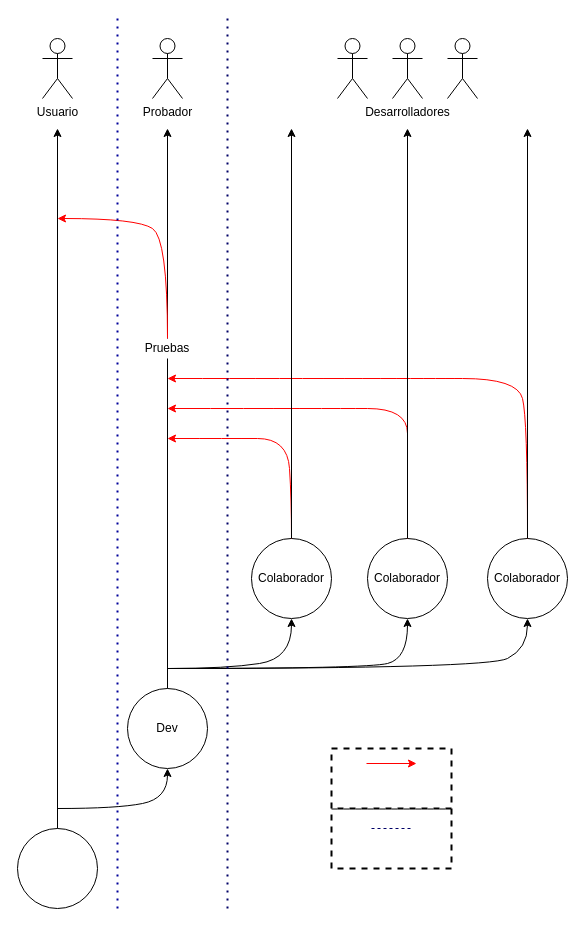
Image size: 585x927. Some labels were removed from this diagram. Here are the shapes that lost their labels. From the top down, the box of each, then its label:
(330, 747, 452, 809): Pull request
(330, 807, 452, 869): Ambientes
(16, 828, 98, 908): Master
